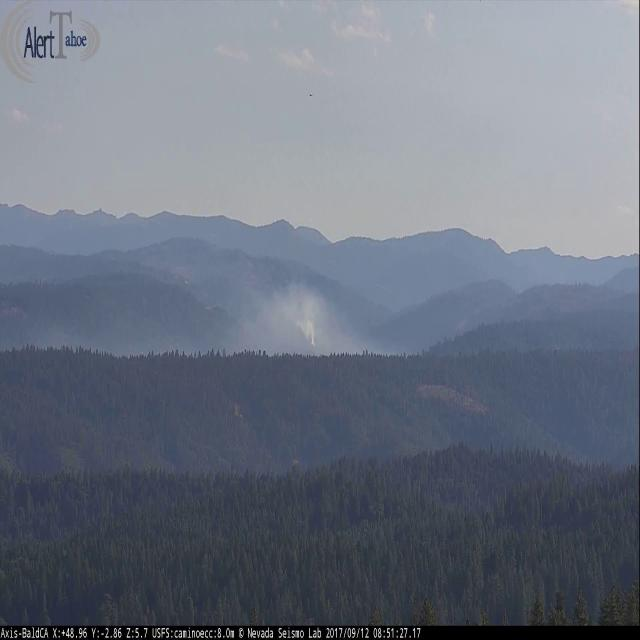smoke: (270, 274, 340, 354)
